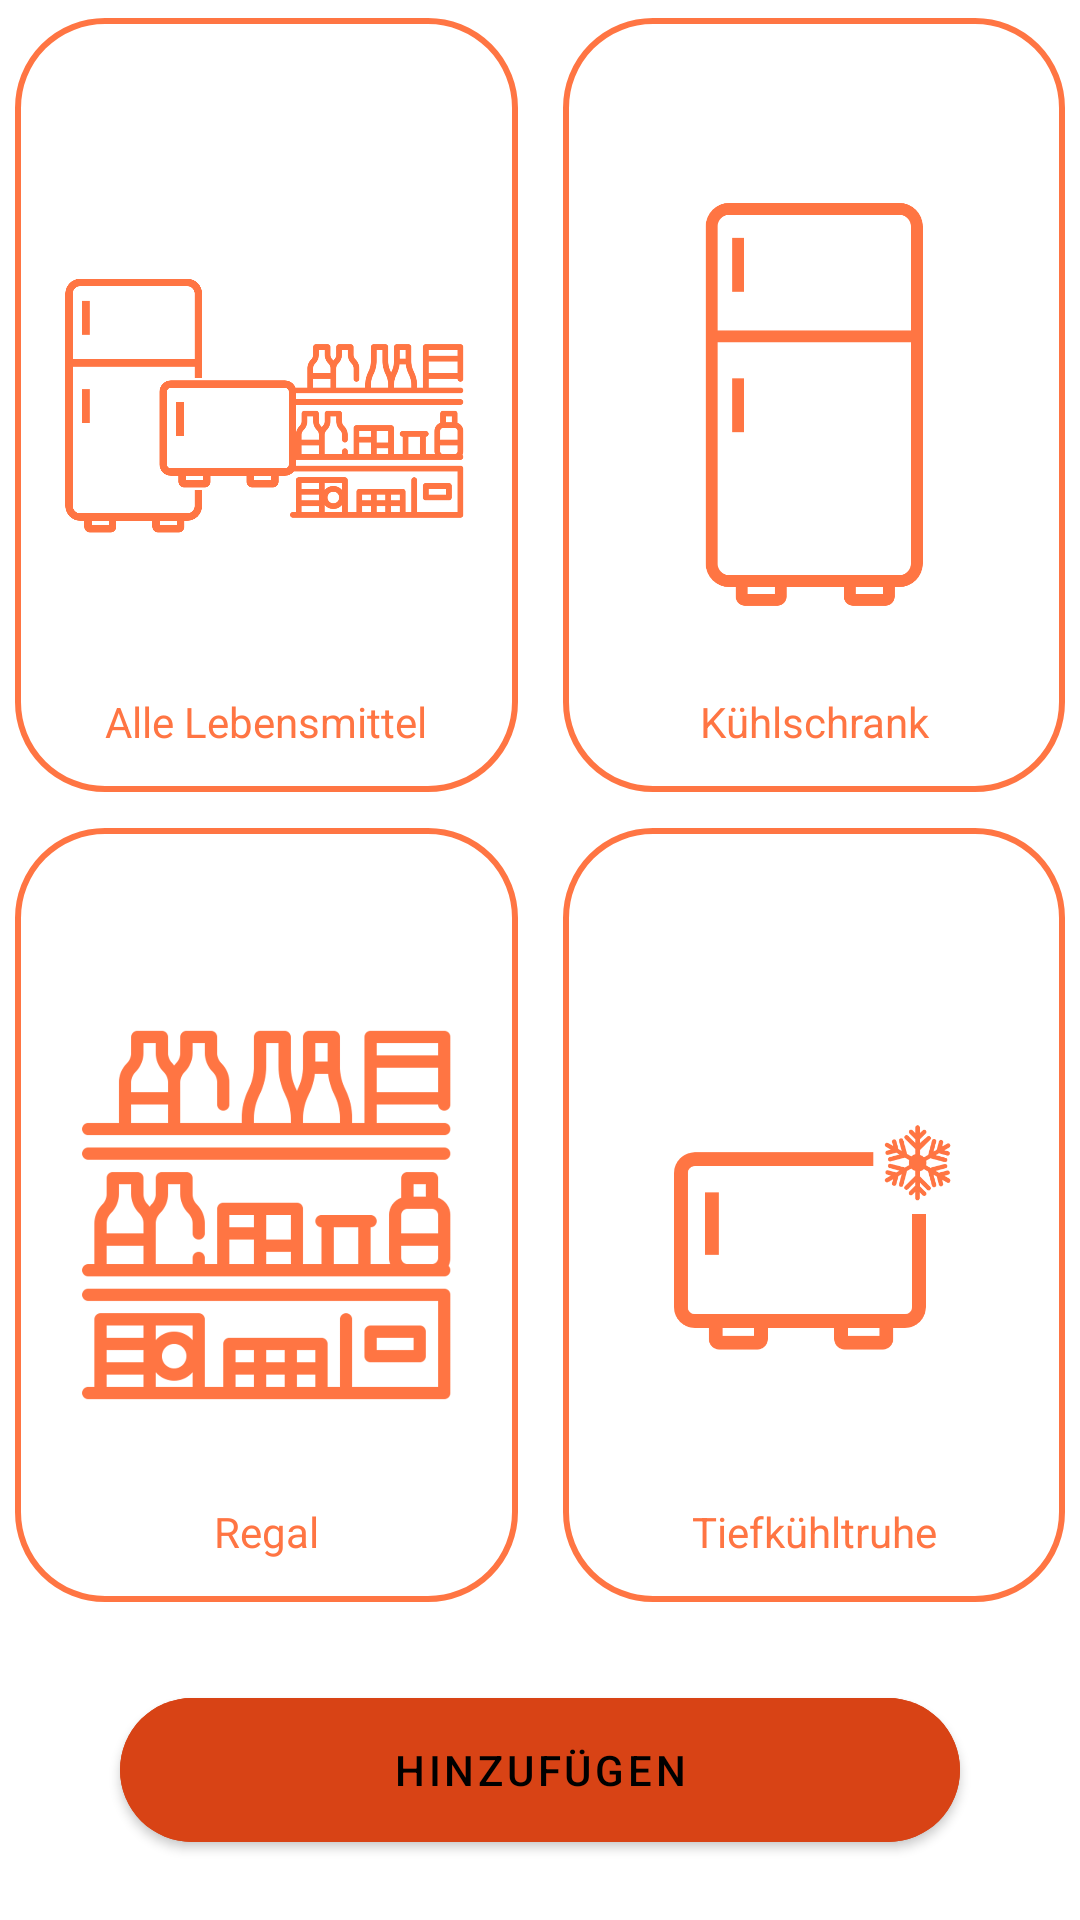

Where to tap for icons on this 1080 × 1920 app screen, as point (x, y):
freezer: point (812, 1237)
